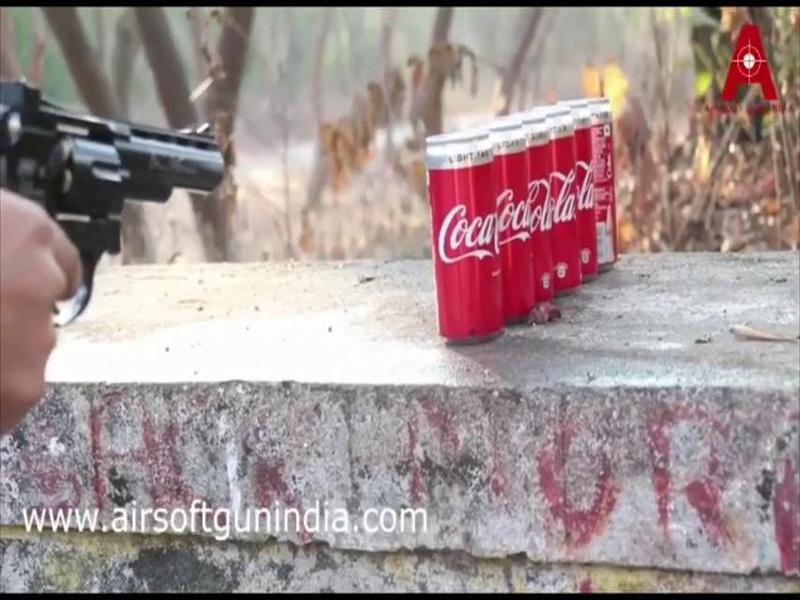Revolver: (3, 65, 246, 332)
